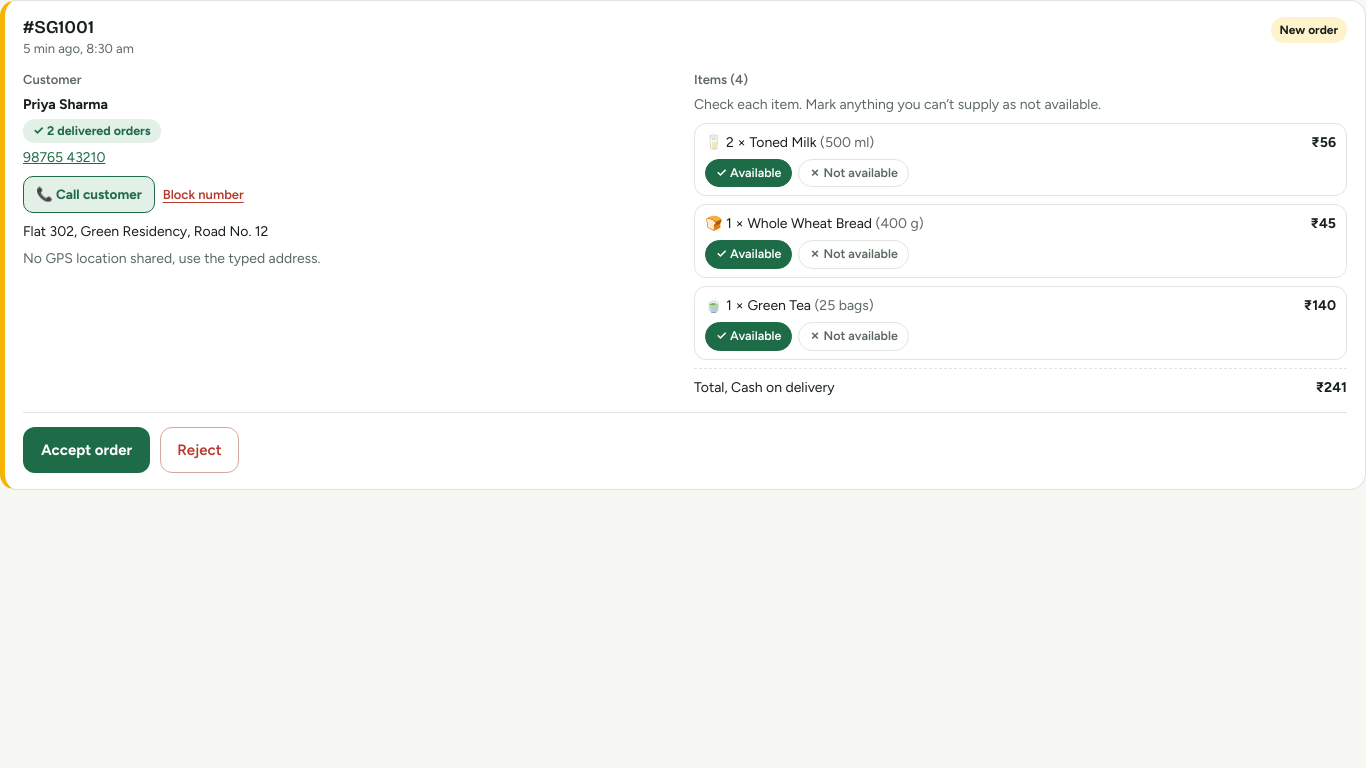
Test: AdminOrderCard › accepts 2 of 3 items, showing the new total and sending the reason
Later steps or results of the test are not shown.
Expected: the text "New order" is shown, x1=1271 y1=17 x2=1347 y2=43
Step 1. Click the button "✗ Not available" below "Green Tea" → (854, 337), box x1=798 y1=322 x2=909 y2=351
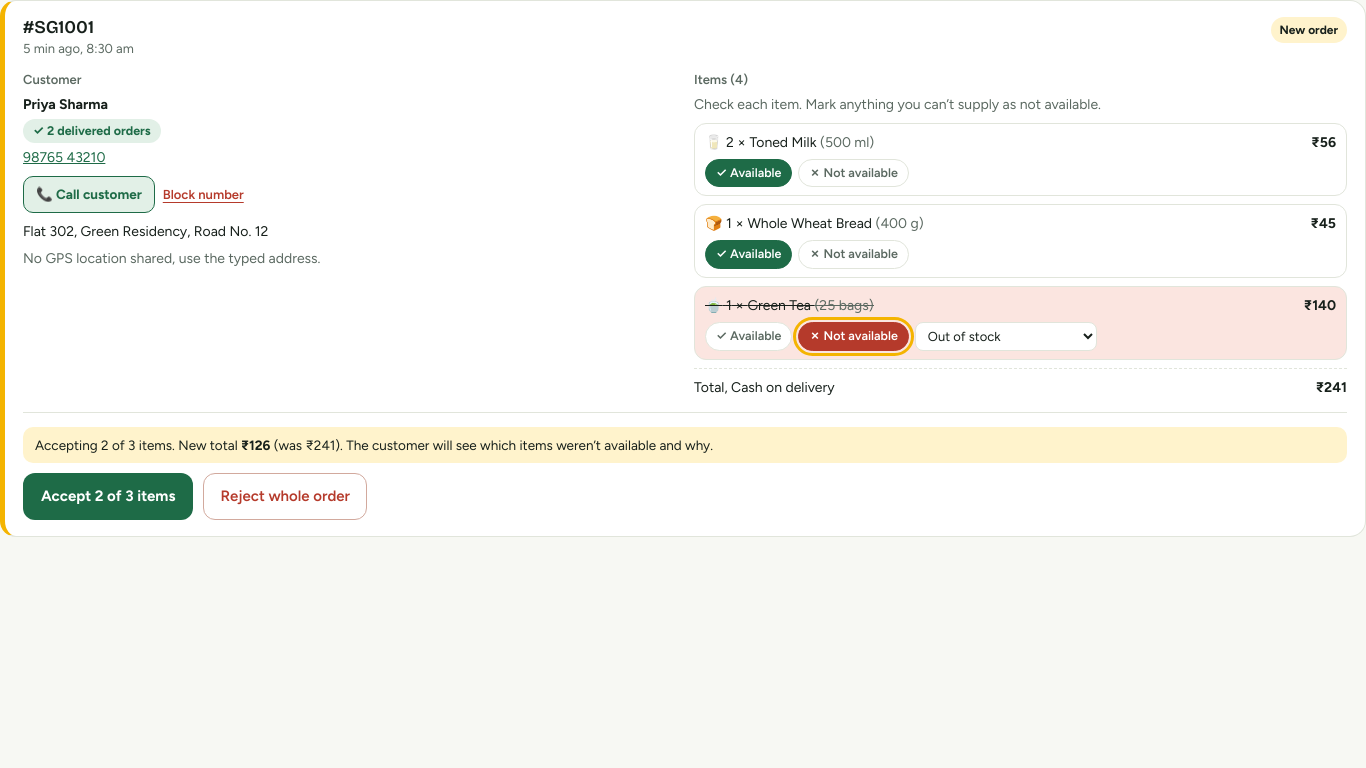
Expected: the text "Accepting 2 of 3 items. New total" shows "New total ₹126 (was ₹241)", x1=23 y1=427 x2=1347 y2=464
